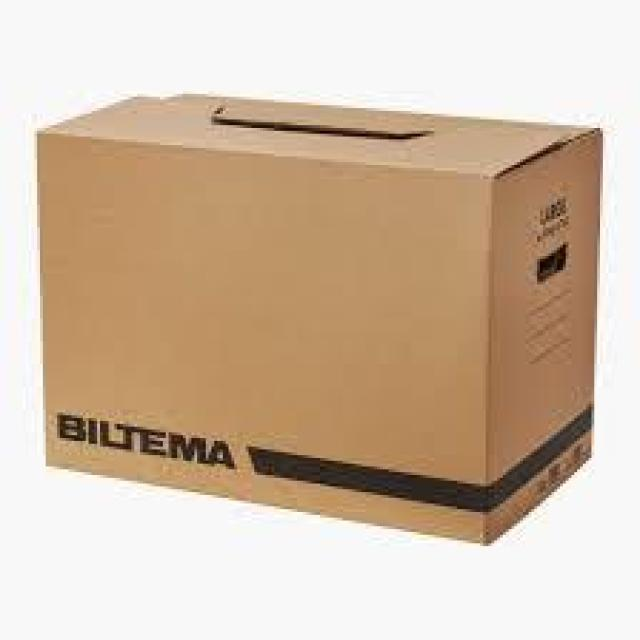box: (36, 95, 604, 549)
